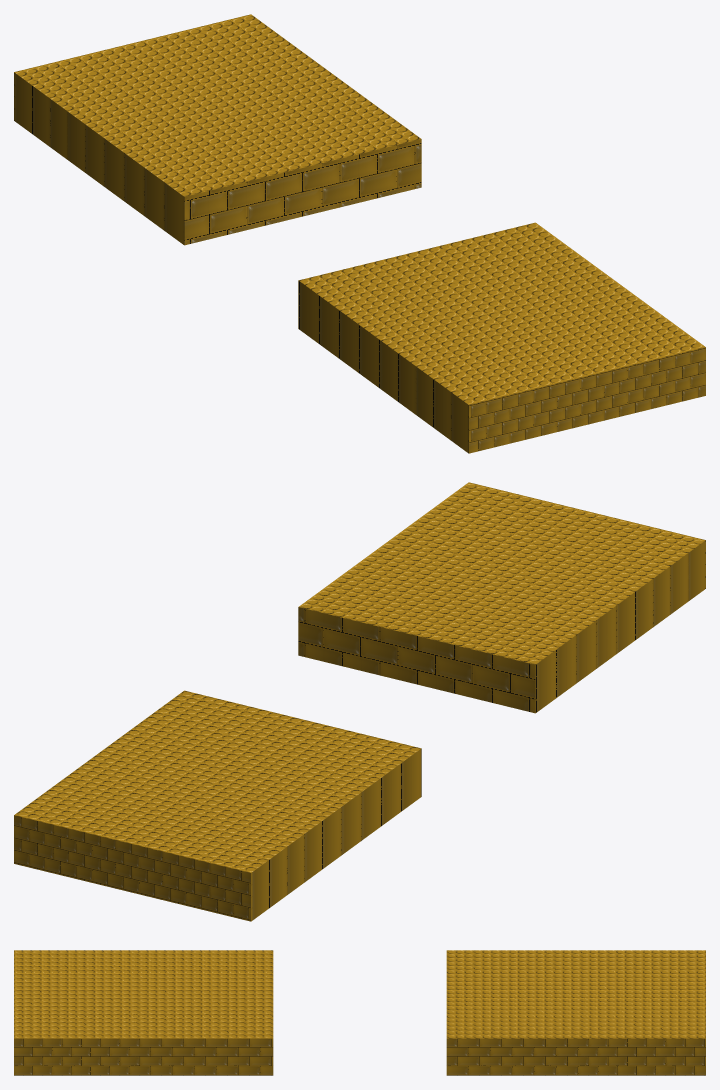
The model's file is liftingPlatform.obj.
3 views of the same model, one above another, from view 1: azimuth 30°, elevation 25°; view 2: azimuth 150°, elevation 25°; view 3: azimuth 270°, elevation 25° (orthographic). The views are drawn at different scales.
Parts seen in each view (by area): view 1: Plane.004_Plane.023; view 2: Plane.004_Plane.023; view 3: Plane.004_Plane.023.
Part boxes in pixels (box(x1,y1,x2,y2)): Plane.004_Plane.023: box(14, 14, 705, 453); Plane.004_Plane.023: box(14, 482, 705, 921); Plane.004_Plane.023: box(14, 950, 705, 1075).
Bounding box in the file's own units: 3.42 × 0.6698 × 11.36.
Materials: 2 (2 with a texture image).
